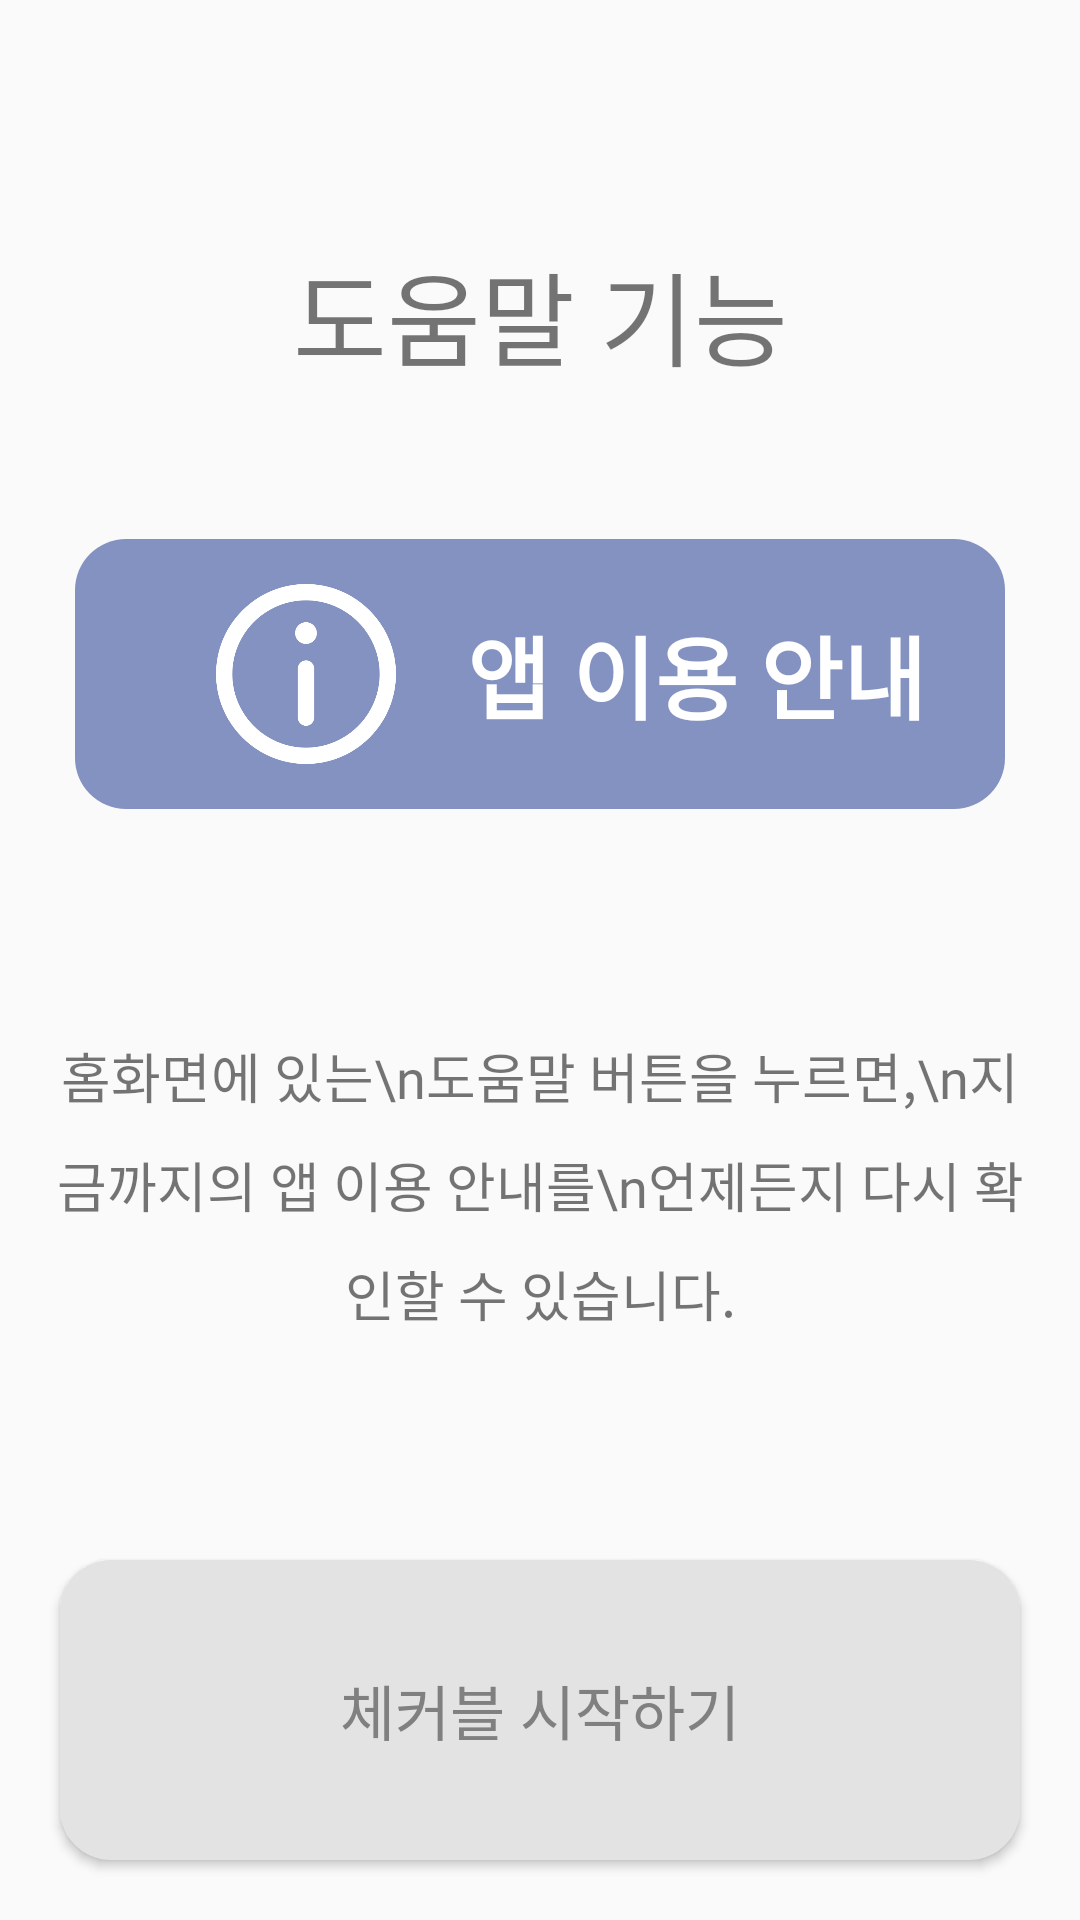

Icons on this 1080px×1920px Android screen, each with its box as [x1, y1, x2, y2]:
information: [216, 584, 396, 764]
